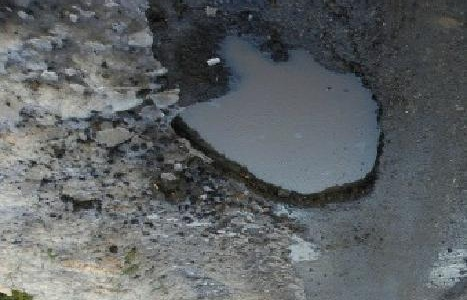pothole: (163, 33, 388, 210), (55, 182, 102, 212), (88, 125, 135, 150)
